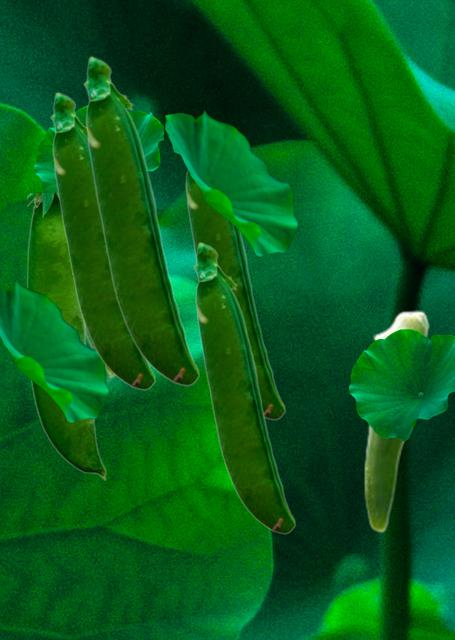pea: (83, 55, 198, 385), (50, 91, 154, 389), (193, 241, 294, 533), (184, 170, 284, 419), (27, 193, 105, 479), (363, 310, 429, 532)
